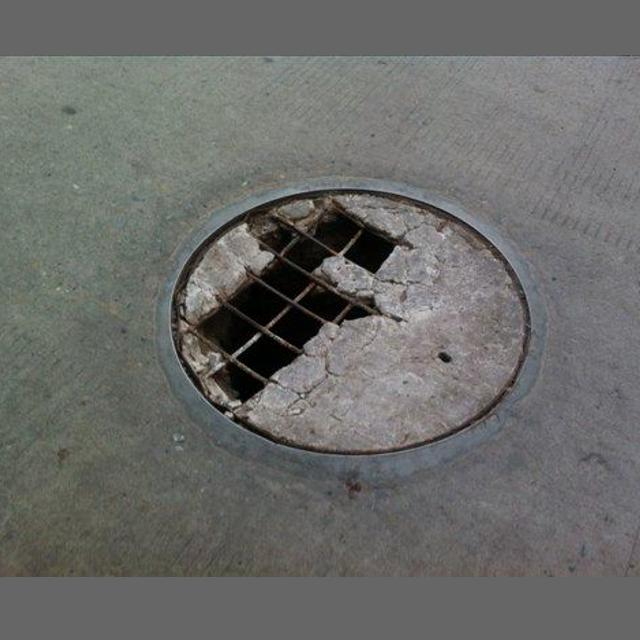broke: (132, 171, 559, 478)
